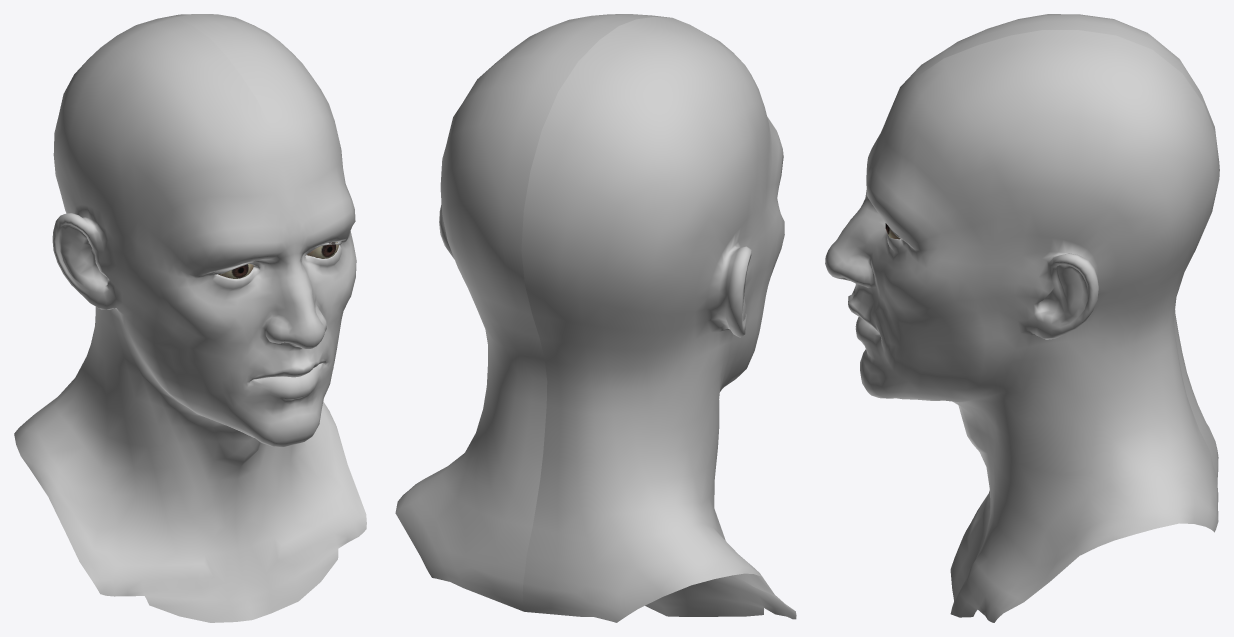
The model's file is head_caucasian02.fbx.
3 views of the same model, side by side, from view 1: azimuth 30°, elevation 25°; view 2: azimuth 150°, elevation 25°; view 3: azimuth 270°, elevation 25° (orthographic). The views are drawn at different scales.
Visible parts, largest first — view 1: head_caucasian02; view 2: head_caucasian02; view 3: head_caucasian02.
Part boxes in pixels (left/top/right/bottom): head_caucasian02: left=14, top=14, right=366, bottom=622; head_caucasian02: left=395, top=14, right=796, bottom=622; head_caucasian02: left=825, top=14, right=1219, bottom=622.
Bounding box in the file's own units: 19.57 × 35.35 × 22.13.
